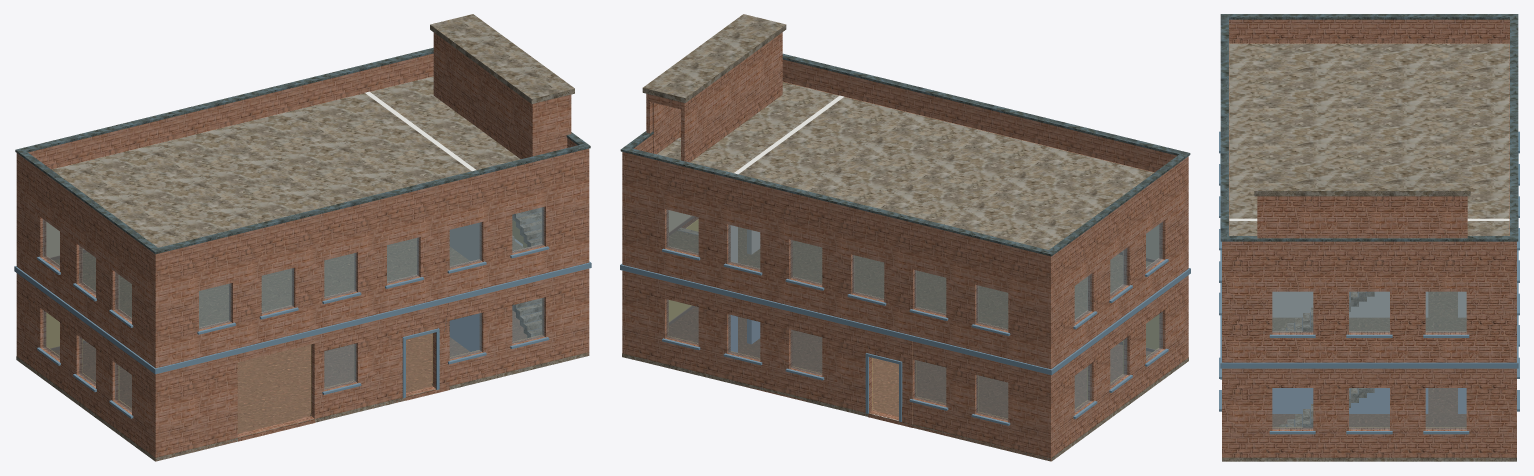
The model's file is ew-workshop.zfix-v9.lod0.glb.
3 renders of one model, left to right at view 1: azimuth 30°, elevation 25°; view 2: azimuth 150°, elevation 25°; view 3: azimuth 270°, elevation 25°, orthographic. The views are drawn at different scales.
Visible parts, largest first — view 1: ew-workshop; view 2: ew-workshop; view 3: ew-workshop.
Part boxes in pixels (x1=…): ew-workshop: x1=14, y1=14, x2=591, y2=461; ew-workshop: x1=620, y1=14, x2=1190, y2=461; ew-workshop: x1=1219, y1=14, x2=1519, y2=461.
Size of the model in its own units: 18.2 by 10.17 by 10.2.
Materials: 5 (3 with a texture image).
